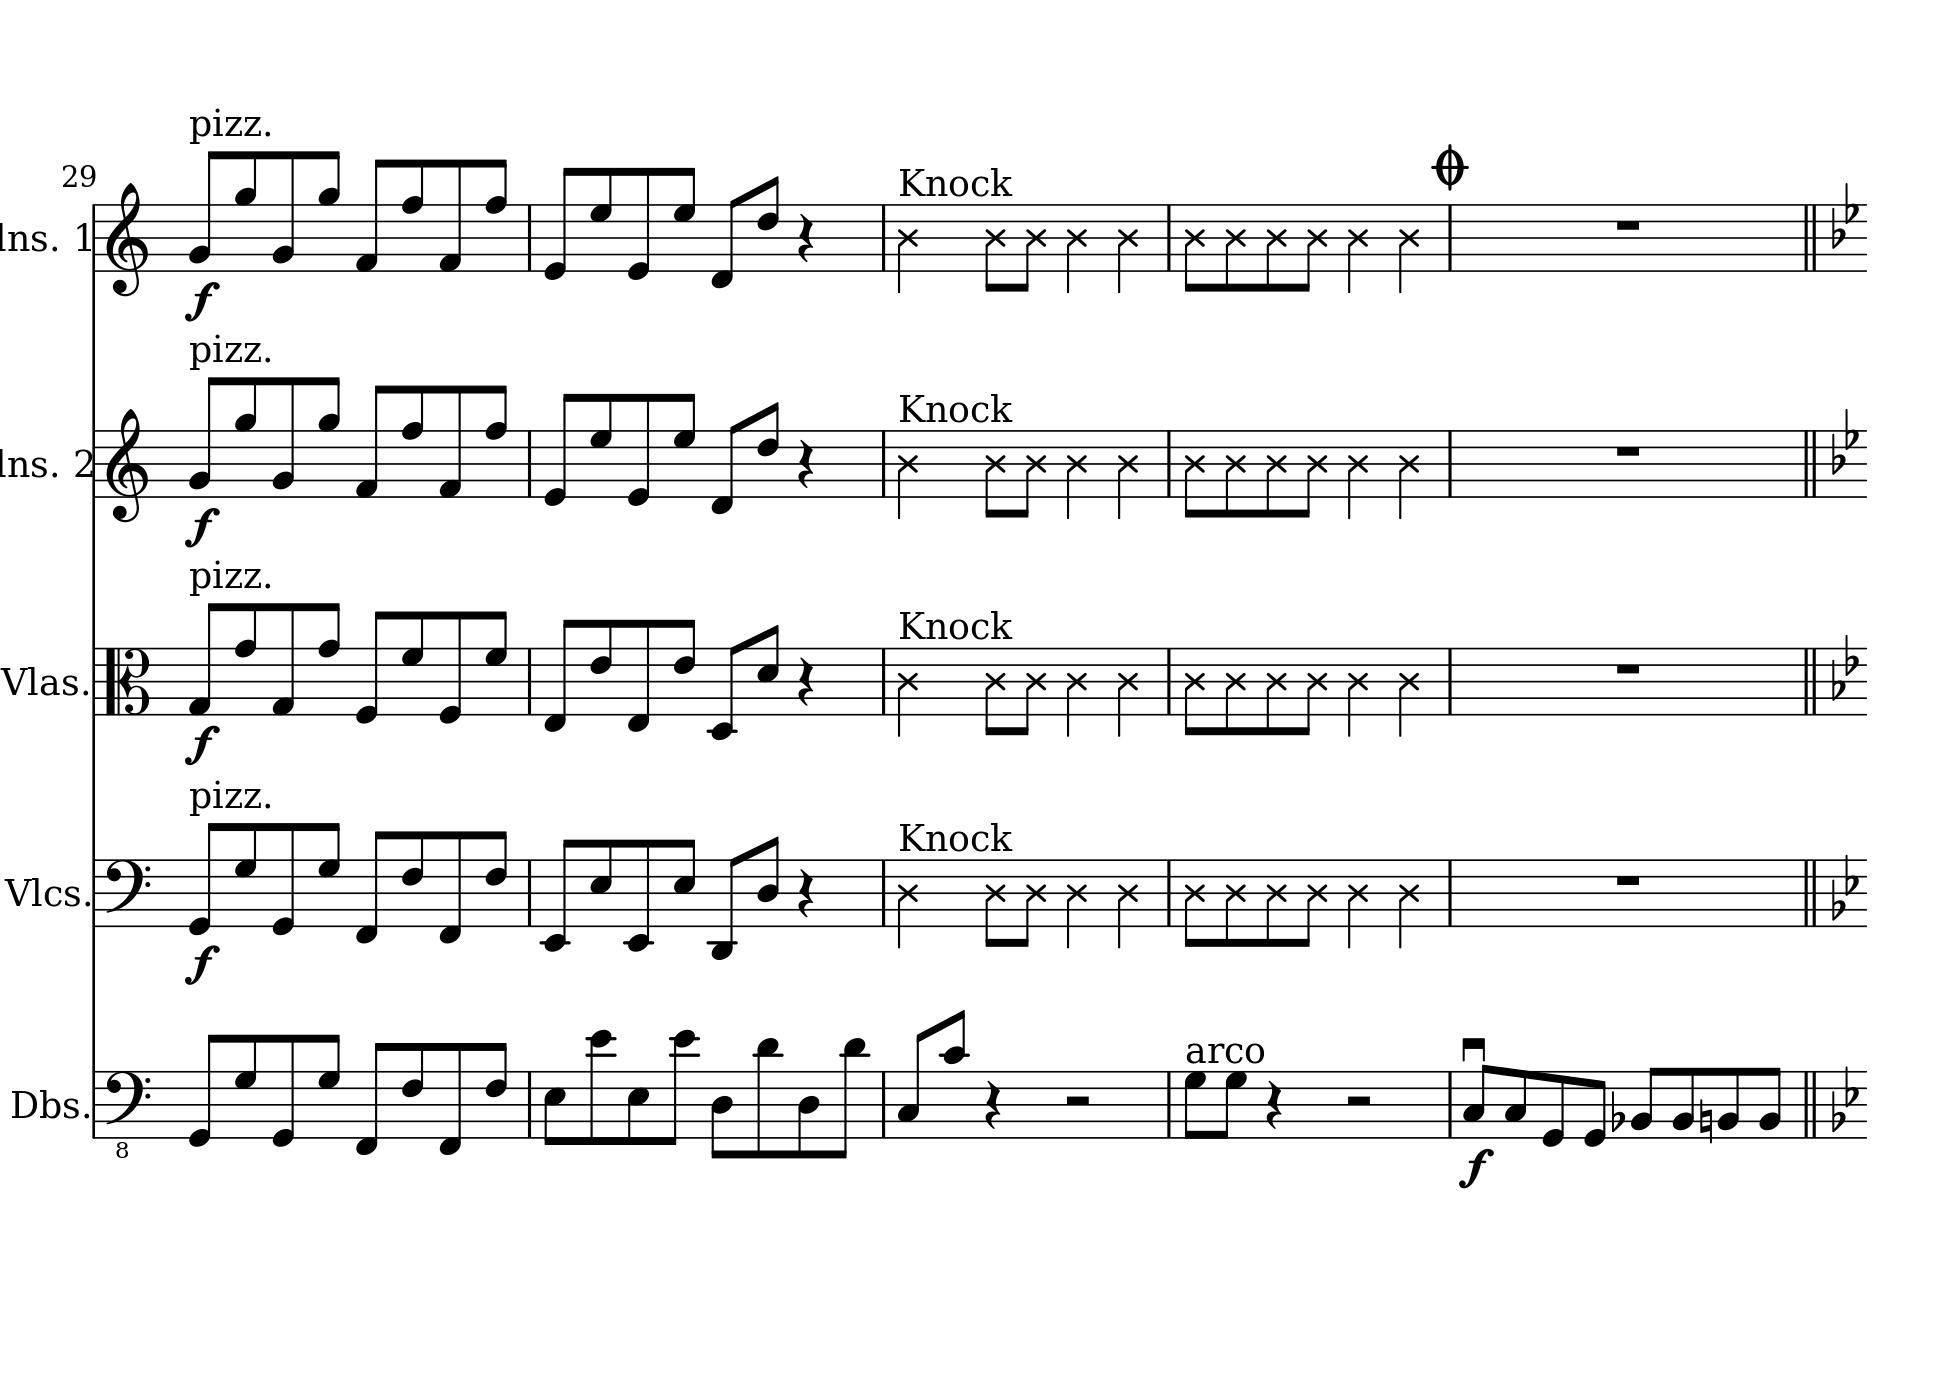2: (58, 162, 78, 189)
8_-1: (538, 615, 577, 733), (351, 826, 387, 945), (352, 1039, 385, 1156), (706, 192, 742, 289), (706, 418, 742, 516), (624, 616, 652, 733), (436, 828, 465, 945), (436, 1039, 463, 1159)
8_-2: (538, 835, 579, 952), (706, 637, 747, 741), (622, 835, 655, 952)
8_-3: (706, 853, 742, 961)
8_0: (183, 1030, 223, 1147), (186, 820, 226, 936), (354, 609, 391, 724), (541, 165, 577, 282), (541, 391, 577, 508), (268, 1030, 298, 1149), (270, 820, 300, 937), (625, 391, 654, 508), (436, 609, 465, 726), (625, 166, 654, 282), (1582, 1068, 1609, 1149), (1542, 1068, 1569, 1147)
8_1: (354, 156, 394, 273), (352, 382, 393, 499), (187, 598, 225, 715), (436, 382, 465, 501), (436, 157, 465, 274), (271, 601, 298, 717)
8_10: (937, 1009, 967, 1141)
8_11: (825, 1035, 868, 1161), (753, 1036, 783, 1161)
8_12: (658, 1027, 699, 1147), (585, 1027, 616, 1147)
8_2: (187, 147, 220, 271), (187, 373, 220, 498), (271, 147, 297, 273), (271, 373, 297, 499), (1629, 1063, 1665, 1141), (1716, 1065, 1743, 1140), (1671, 1065, 1696, 1141), (1758, 1065, 1783, 1140)
8_3: (895, 1026, 927, 1141), (1462, 1062, 1494, 1138), (1503, 1066, 1530, 1140)
8_4: (754, 834, 781, 928), (795, 1069, 820, 1161), (709, 1069, 733, 1161)
8_5: (588, 835, 616, 928), (754, 622, 781, 715), (672, 837, 697, 928), (625, 1066, 651, 1147), (541, 1068, 567, 1147)
8_6: (586, 616, 616, 717), (399, 828, 426, 930), (481, 1039, 508, 1141), (754, 174, 781, 274), (754, 399, 781, 499), (670, 616, 697, 717), (481, 829, 508, 928), (399, 1039, 424, 1141)
8_7: (232, 820, 259, 928), (232, 1032, 259, 1140), (670, 391, 697, 498), (670, 166, 697, 271), (588, 165, 613, 273), (588, 391, 613, 499), (483, 609, 508, 717), (316, 820, 342, 928), (316, 1032, 342, 1140), (400, 609, 424, 717), (1216, 1069, 1248, 1141), (1182, 1069, 1207, 1141)
8_8: (399, 157, 426, 274), (232, 601, 259, 717), (483, 156, 508, 274), (316, 600, 342, 718), (400, 382, 426, 499), (483, 382, 508, 499)
8_9: (231, 145, 259, 271), (315, 148, 343, 274), (231, 373, 259, 499), (315, 375, 342, 499)
9: (78, 160, 97, 187)
B_F: (1830, 180, 1863, 249), (1830, 405, 1861, 475), (1830, 631, 1861, 700), (1830, 1063, 1861, 1132), (1830, 850, 1860, 922)
Cclef: (103, 646, 156, 715)
Coda: (1431, 142, 1470, 187)
Dbs: (7, 1087, 81, 1123)
Double_barline: (1800, 202, 1822, 270), (1800, 429, 1822, 496), (1800, 646, 1822, 714), (1800, 858, 1822, 925), (1800, 1069, 1821, 1137)
Down_bow: (1459, 1036, 1489, 1062)
Fclef: (103, 856, 163, 928)
Flat: (1608, 1087, 1627, 1129)
Gclef: (103, 178, 151, 297), (103, 405, 151, 523)
Lower_Fclef: (102, 1068, 151, 1159)
Natural: (1698, 1096, 1716, 1146)
Rests1: (1612, 214, 1644, 234), (1612, 441, 1644, 460), (1614, 870, 1644, 889), (1612, 658, 1644, 676)
Rests2: (1342, 1090, 1377, 1110), (1062, 1090, 1095, 1110)
Rests4: (795, 208, 817, 264), (795, 435, 817, 490), (796, 654, 817, 708), (796, 865, 816, 919), (984, 1078, 1003, 1131), (1264, 1078, 1284, 1131)
Single_barline: (85, 646, 103, 715), (520, 202, 538, 270), (874, 202, 892, 270), (520, 429, 538, 496), (874, 429, 892, 496), (874, 646, 892, 712), (87, 204, 103, 271), (522, 646, 538, 714), (1441, 204, 1458, 270), (1441, 430, 1458, 496), (1441, 648, 1458, 714), (876, 859, 892, 925), (1441, 859, 1458, 925), (522, 1071, 538, 1135), (874, 1071, 891, 1135), (1161, 1071, 1177, 1135), (88, 429, 103, 498), (87, 859, 102, 927), (522, 859, 537, 925), (87, 1069, 100, 1137), (1443, 1072, 1456, 1137)
Vla: (1, 661, 58, 703)
Vlc: (1, 868, 64, 913)
f: (181, 721, 222, 766), (181, 942, 222, 985), (183, 279, 222, 322), (183, 505, 222, 549), (1455, 1146, 1494, 1189)
